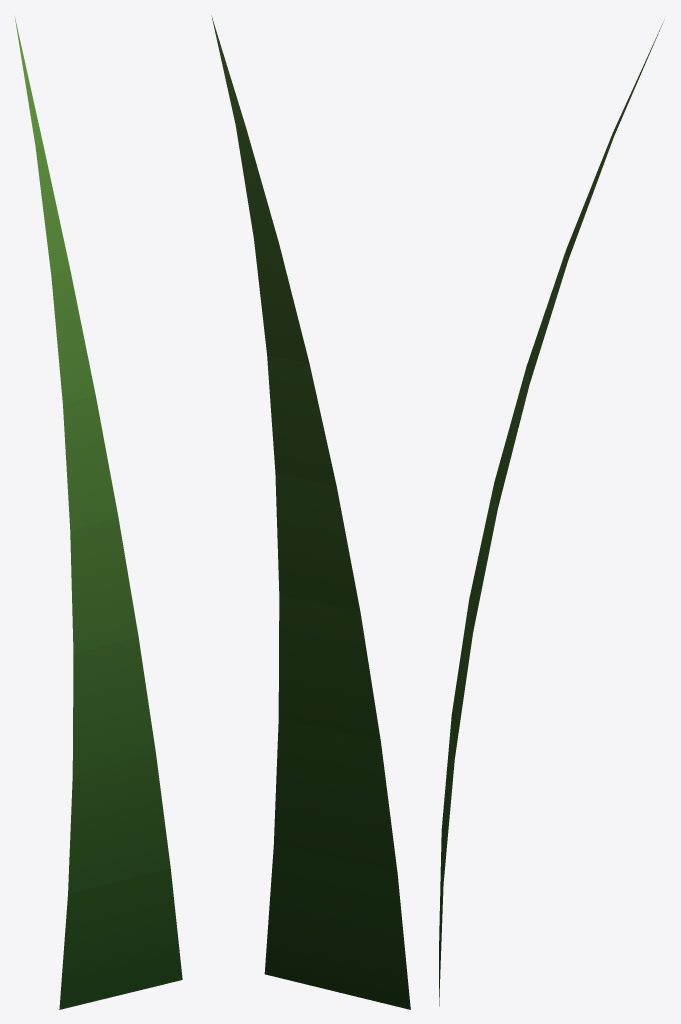
The model's file is grass-blade.glb.
3 views of the same model, side by side, from view 1: azimuth 30°, elevation 25°; view 2: azimuth 150°, elevation 25°; view 3: azimuth 270°, elevation 25° (orthographic). The views are drawn at different scales.
Parts seen in each view (by area): view 1: GrassBlade; view 2: GrassBlade; view 3: GrassBlade.
Boxes of the visible parts, x1,y1,x2,y2 form: GrassBlade: (14,16,182,1009); GrassBlade: (211,15,410,1009); GrassBlade: (439,21,663,1006).
Size of the model in its own units: 0.02 by 0.14 by 0.03.
